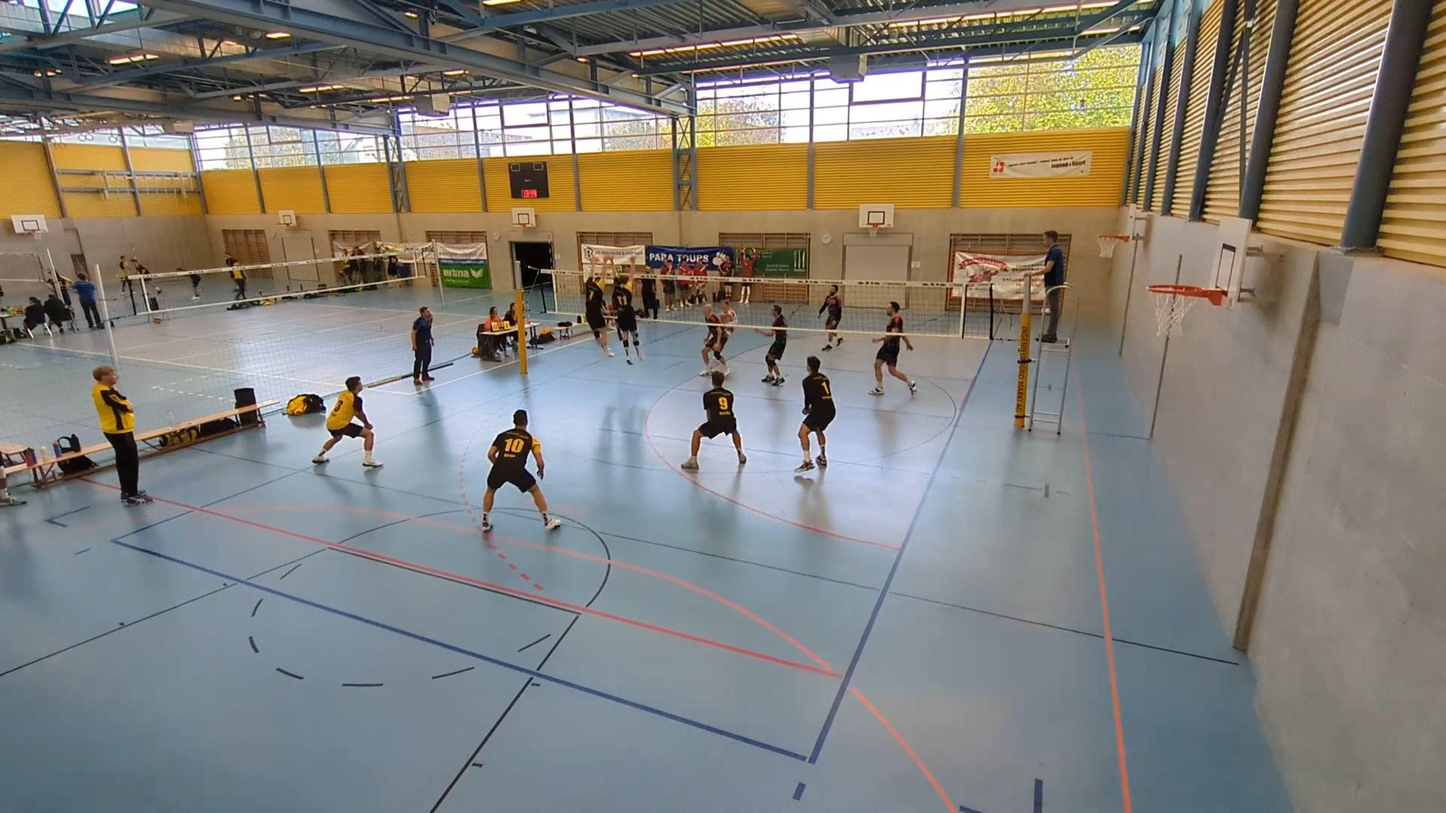muro: (579, 245, 613, 364), (612, 252, 641, 369)
